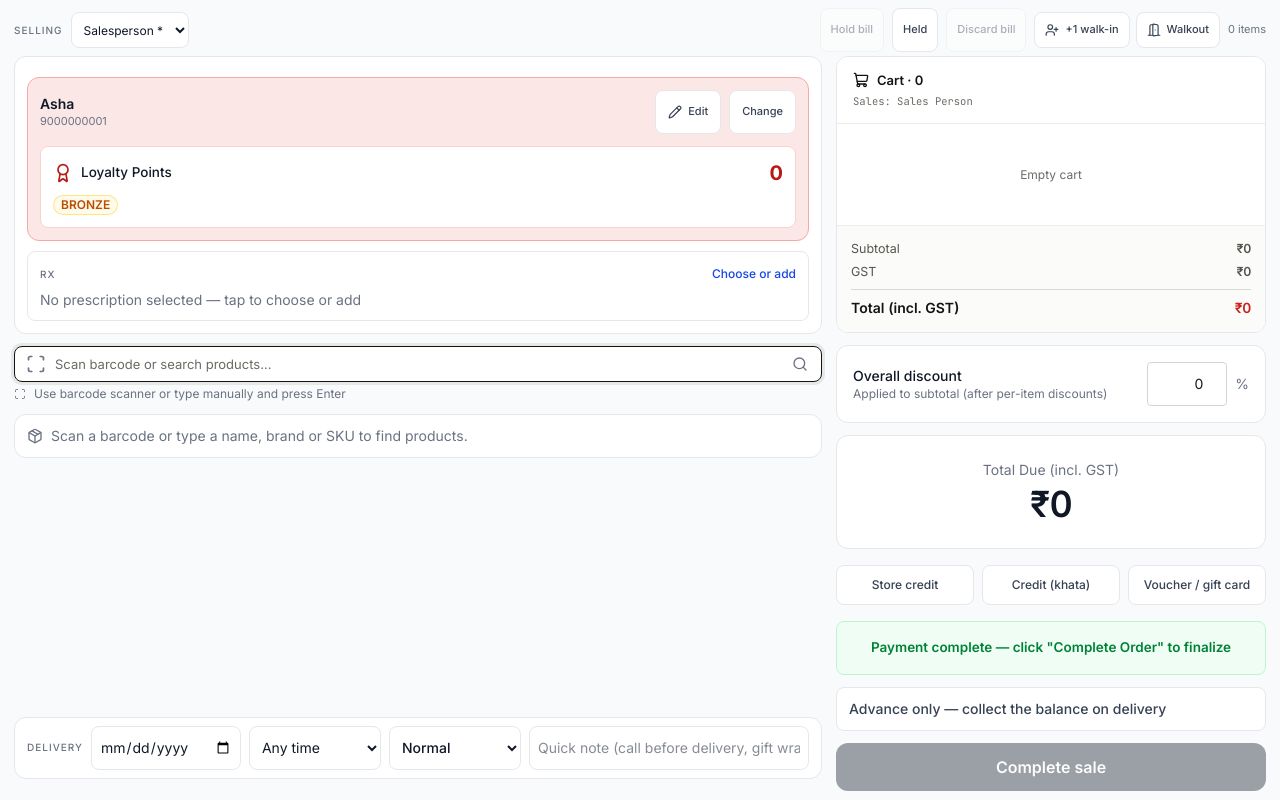
Scenario: the picker row tells absence apart from plano › shows +0.00 for a power recorded AS zero, on BOTH eyes
Click the button "Choose or add": (754, 274) [27,251,809,321]
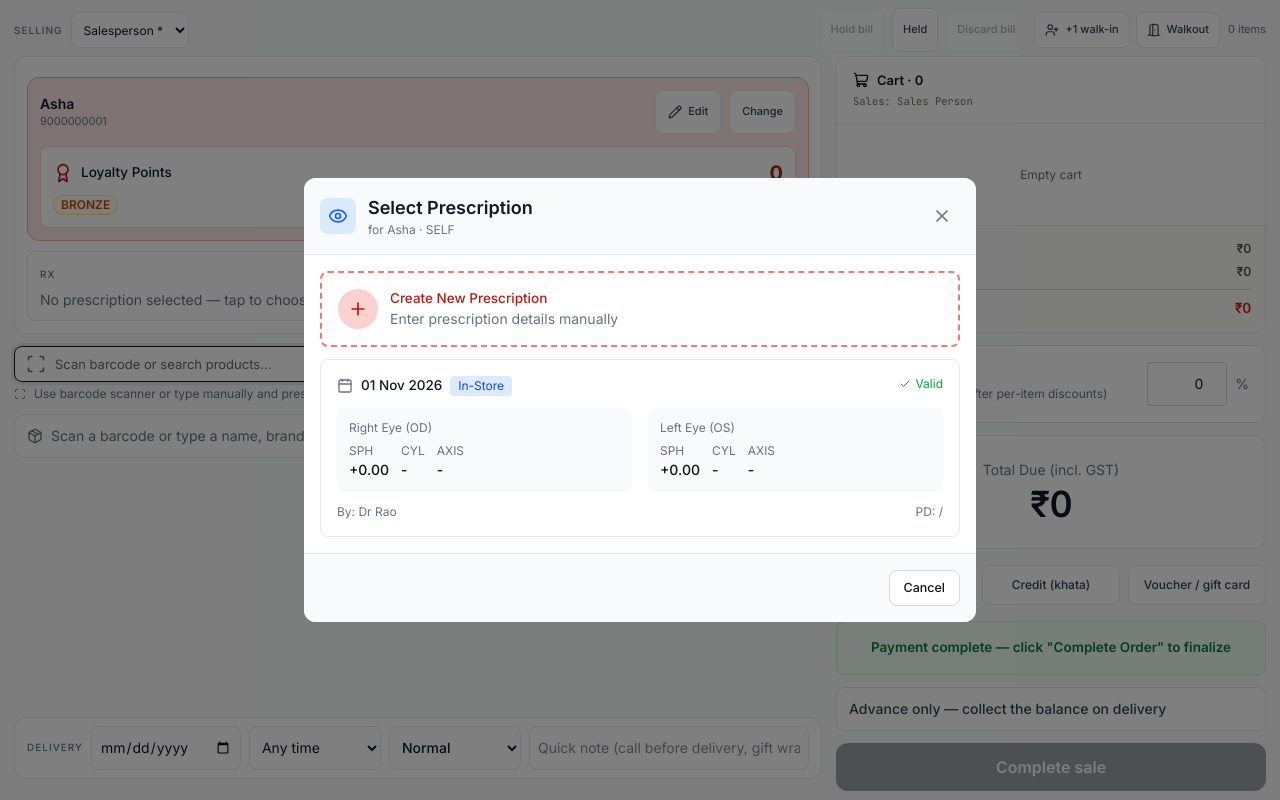
Expected: the text "Valid" is shown, [899,376,943,392]
